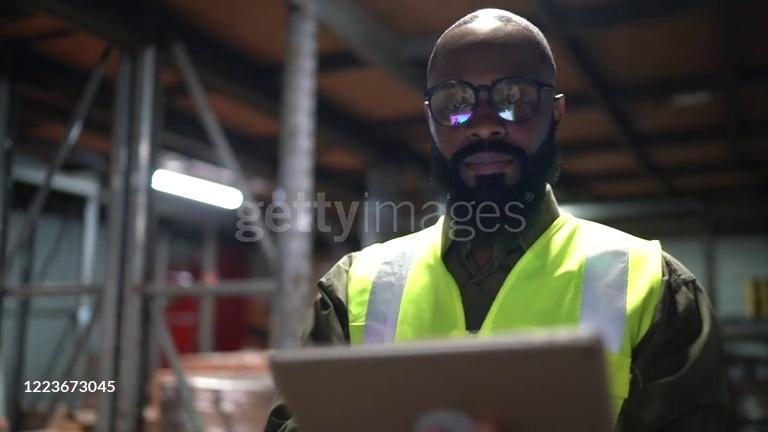person: (276, 5, 739, 432)
